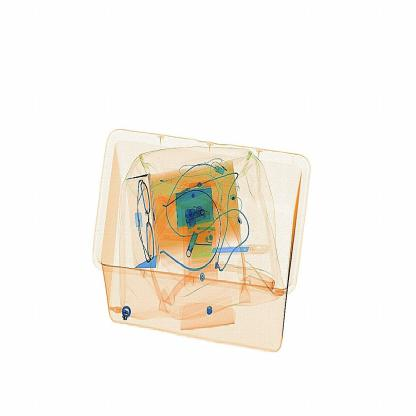pliers: (203, 244, 272, 263)
